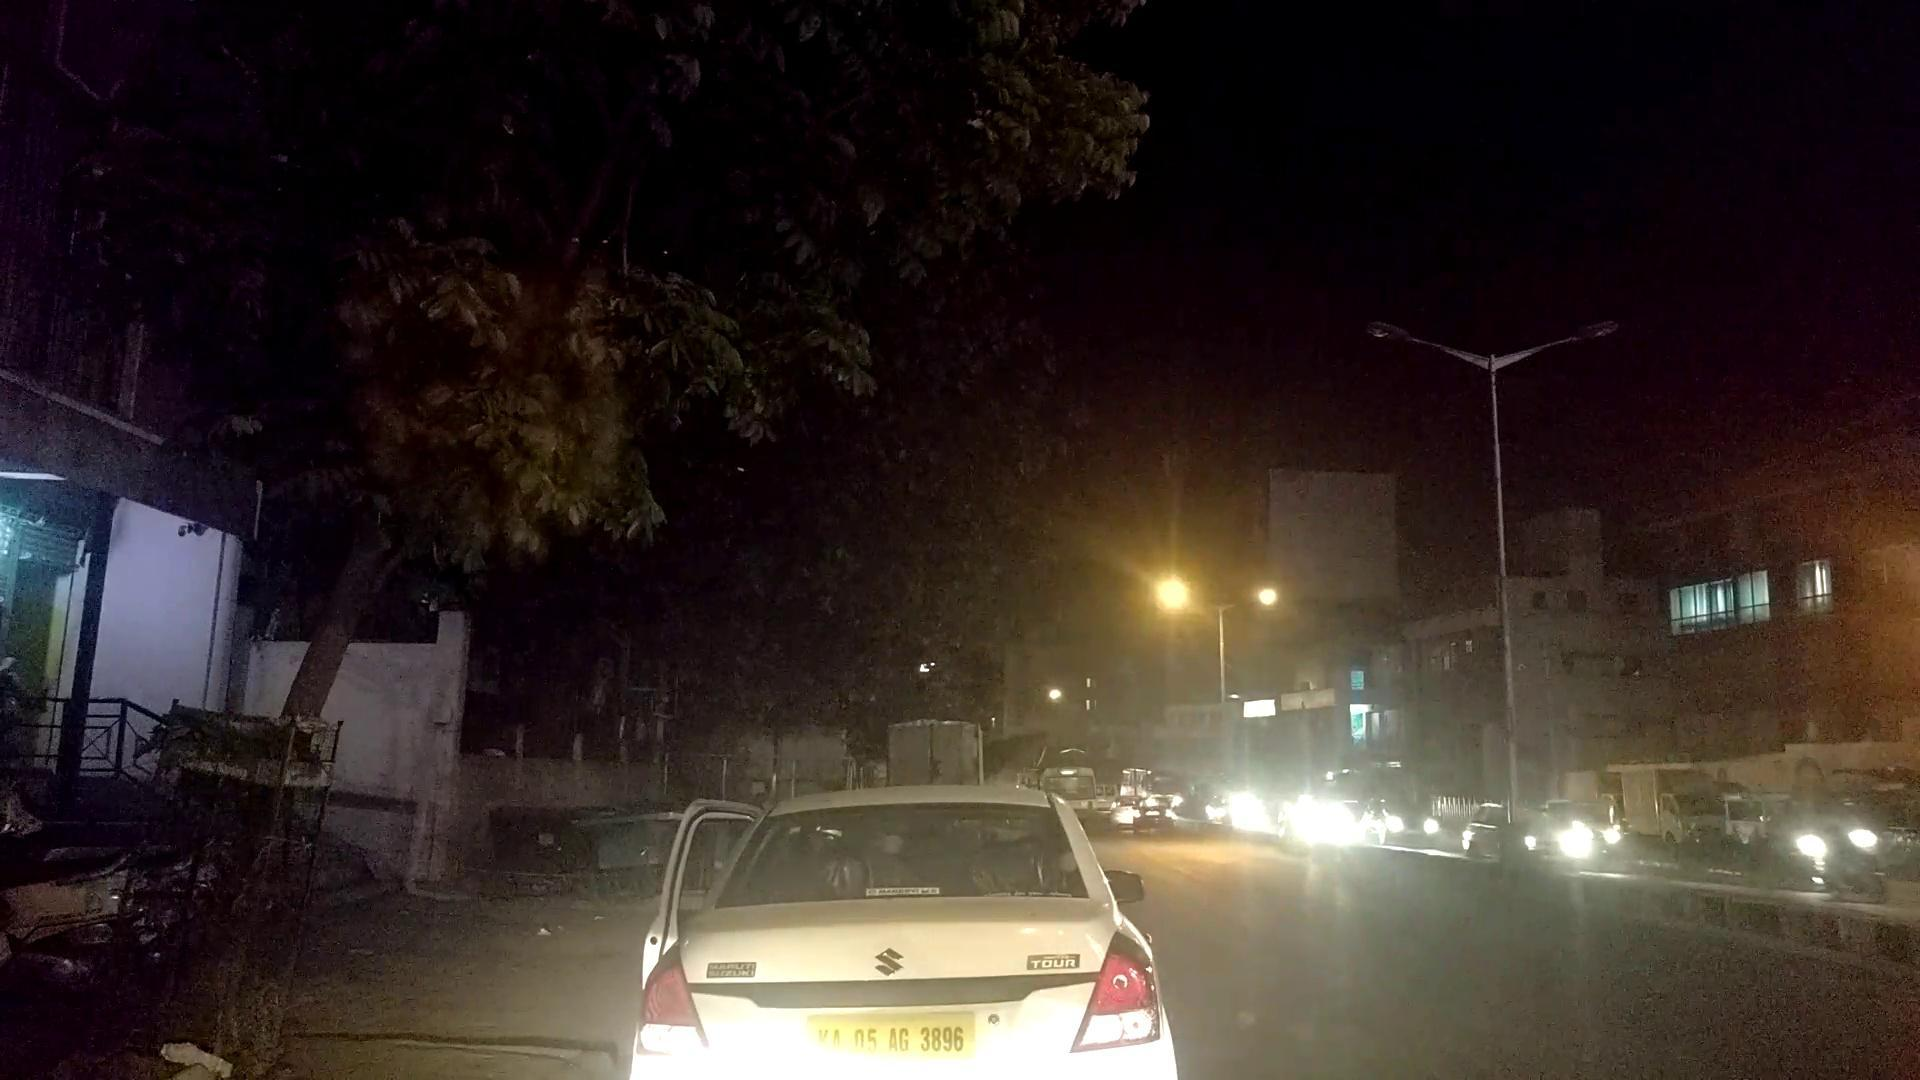on: (1010, 372, 1462, 787)
